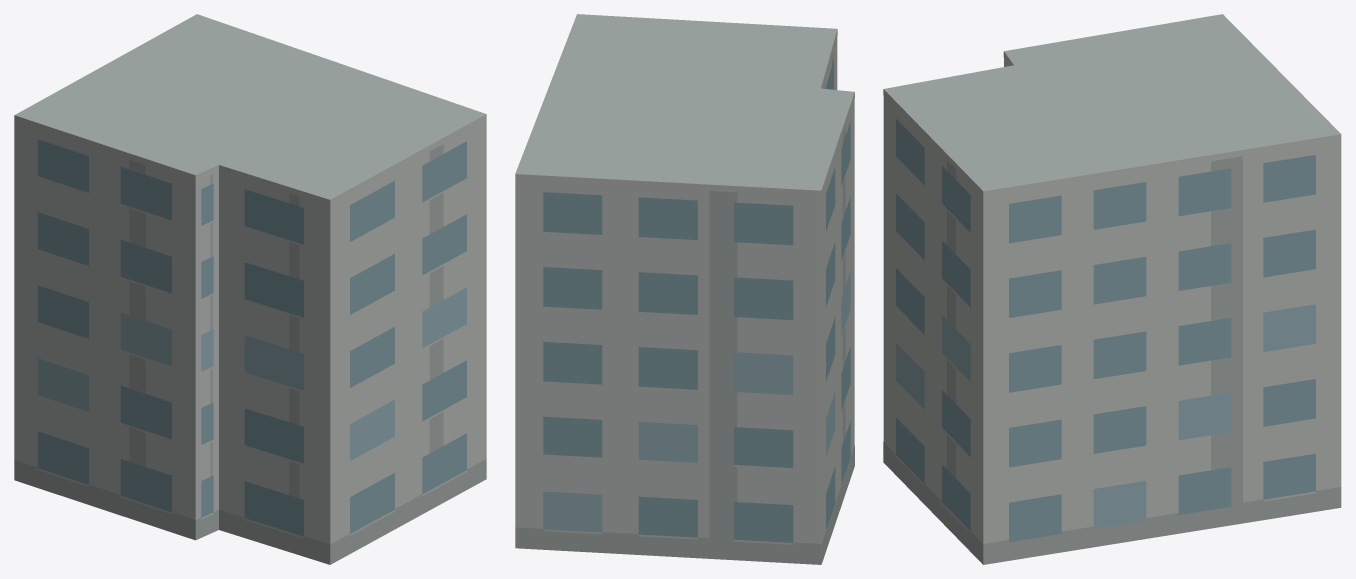
Rendered from survey-upis-32864530.glb.
The picture shows the model from 3 angles, left to right: view 1: azimuth 30°, elevation 25°; view 2: azimuth 150°, elevation 25°; view 3: azimuth 270°, elevation 25°; orthographic projection. The views are drawn at different scales.
Visible parts, largest first — view 1: survey-upis-32864530.tmp; view 2: survey-upis-32864530.tmp; view 3: survey-upis-32864530.tmp.
Part boxes in pixels (x1,y1,x2,y2): survey-upis-32864530.tmp: (14,14,486,564); survey-upis-32864530.tmp: (515,14,854,564); survey-upis-32864530.tmp: (883,14,1341,564).
Size of the model in its own units: 14.78 by 14.5 by 16.12.
